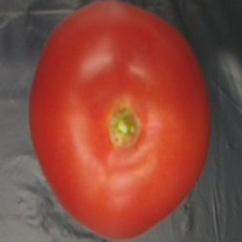unripe: (25, 0, 217, 242)
